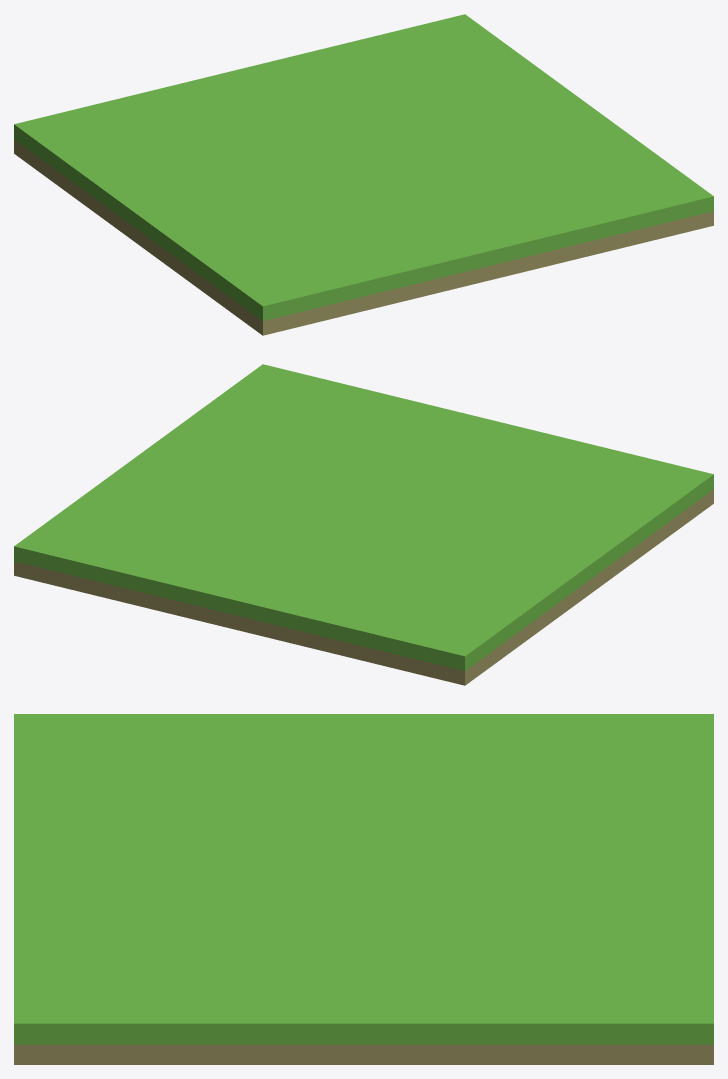
File: Grama Terreno 2.fbx
3 views of the same model, one above another, from view 1: azimuth 30°, elevation 25°; view 2: azimuth 150°, elevation 25°; view 3: azimuth 270°, elevation 25° (orthographic). The views are drawn at different scales.
Visible parts, largest first — view 1: Terreninho 2; view 2: Terreninho 2; view 3: Terreninho 2.
Boxes of the visible parts, bbox=[...] form: Terreninho 2: bbox=[14, 14, 713, 335]; Terreninho 2: bbox=[14, 364, 713, 685]; Terreninho 2: bbox=[14, 714, 713, 1064].
Bounding box in the file's own units: 259 × 16.08 × 247.
